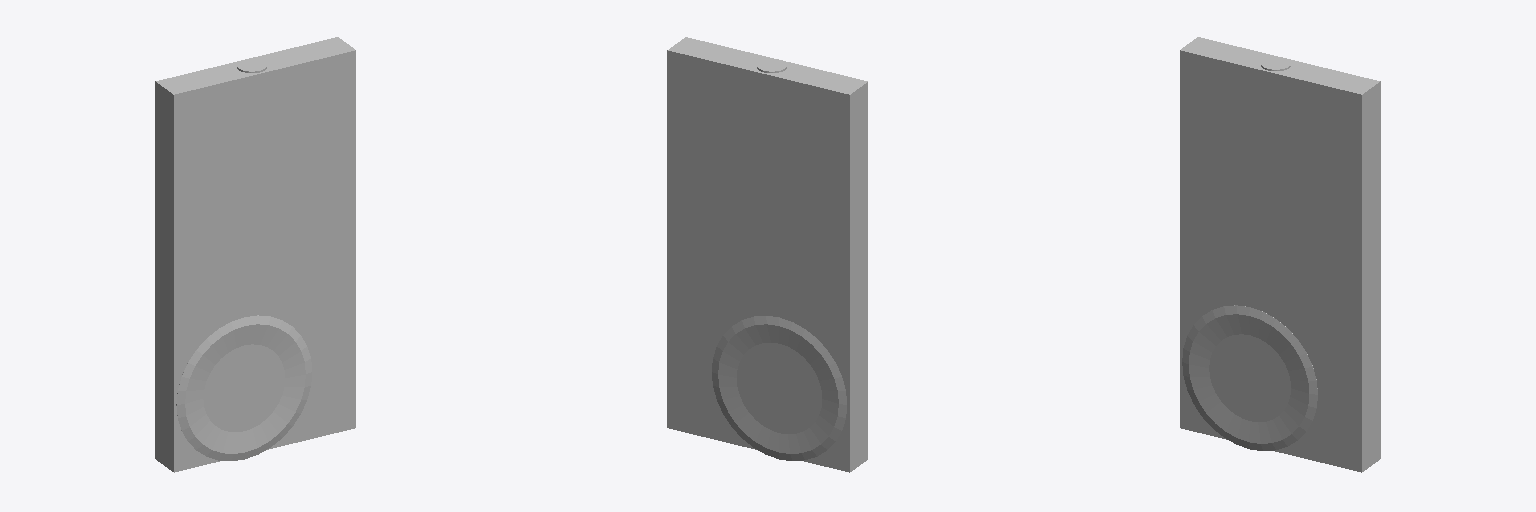
The model's file is Key.obj.
The picture shows the model from 3 angles: view 1: azimuth 30°, elevation 25°; view 2: azimuth 150°, elevation 25°; view 3: azimuth 330°, elevation 25°; orthographic projection.
Parts seen in each view (by area): view 1: UCX_Key_00, Key; view 2: UCX_Key_00, Key; view 3: UCX_Key_00, Key.
Boxes of the visible parts, <box> form: UCX_Key_00: <box>155,37,355,472</box>; Key: <box>176,59,311,460</box>; UCX_Key_00: <box>667,37,867,472</box>; Key: <box>712,59,846,460</box>; UCX_Key_00: <box>1180,37,1380,472</box>; Key: <box>1182,57,1317,450</box>.
Bounding box in the file's own units: 0.7017 × 1.41 × 0.1363.